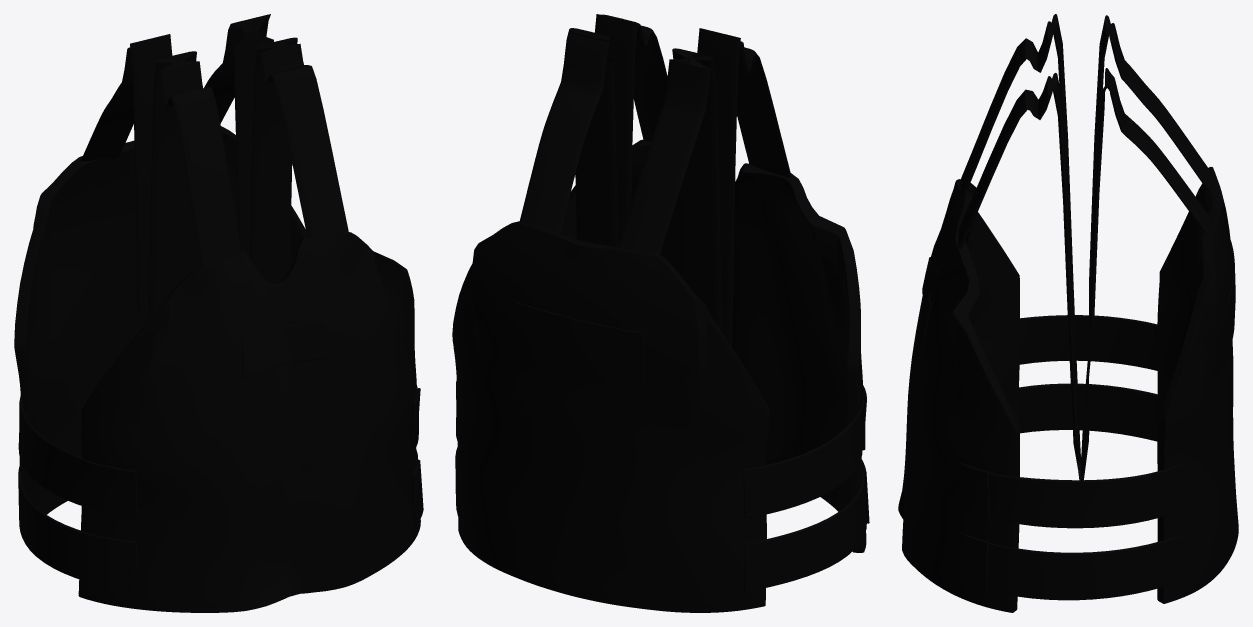
File: _test_vest_1.glb
3 views of the same model, side by side, from view 1: azimuth 30°, elevation 25°; view 2: azimuth 150°, elevation 25°; view 3: azimuth 270°, elevation 25° (orthographic). The views are drawn at different scales.
Parts seen in each view (by area): view 1: body; view 2: body; view 3: body.
Part boxes in pixels (left/top/right/bottom): body: left=14, top=14, right=423, bottom=612; body: left=452, top=14, right=869, bottom=612; body: left=898, top=14, right=1238, bottom=612.
Size of the model in its own units: 0.4445 by 0.5877 by 0.3727.
Materials: 4 (4 with a texture image).
